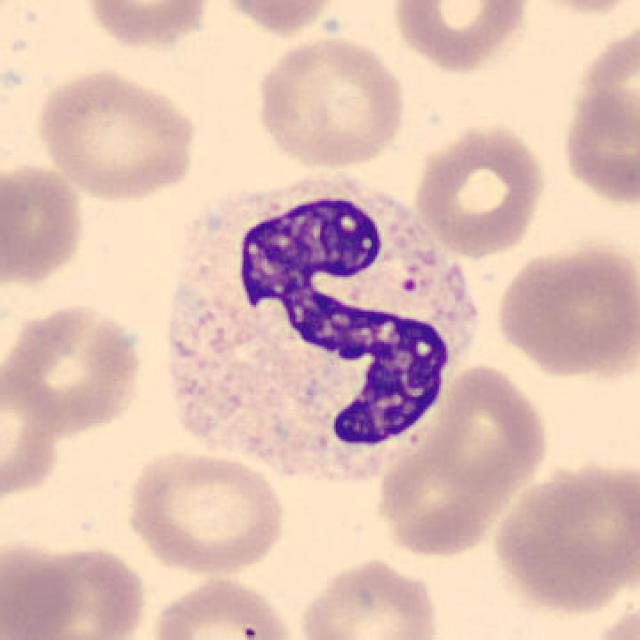Neutrophil: (149, 157, 491, 501)
RBC: (370, 358, 554, 561), (487, 455, 638, 617), (32, 65, 201, 205), (250, 32, 410, 171), (121, 446, 290, 577), (491, 238, 636, 381), (2, 298, 148, 435), (409, 118, 549, 259), (3, 537, 152, 640), (295, 553, 444, 640), (0, 157, 89, 291), (0, 349, 71, 506), (386, 0, 535, 74), (558, 76, 640, 210), (146, 573, 300, 640), (578, 24, 640, 150), (78, 0, 217, 53), (210, 0, 350, 37), (585, 594, 638, 640), (516, 0, 638, 18)
